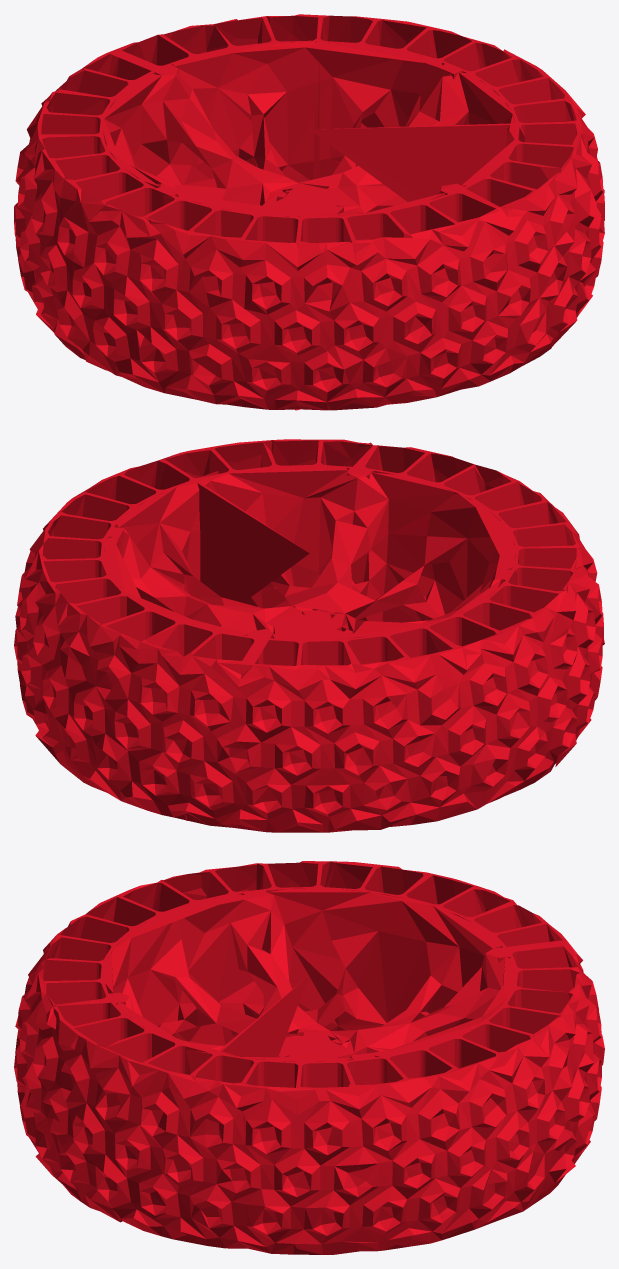
Rendered from wheel.dae.
3 views of the same model, one above another, from view 1: azimuth 30°, elevation 25°; view 2: azimuth 150°, elevation 25°; view 3: azimuth 270°, elevation 25° (orthographic).
Visible parts, largest first — view 1: wheels_2; view 2: wheels_2; view 3: wheels_2.
Part boxes in pixels (x1,y1,x2,y2): wheels_2: (14,14,604,410); wheels_2: (14,439,604,832); wheels_2: (14,861,604,1254).
Size of the model in its own units: 0.2583 by 0.2589 by 0.0826.
